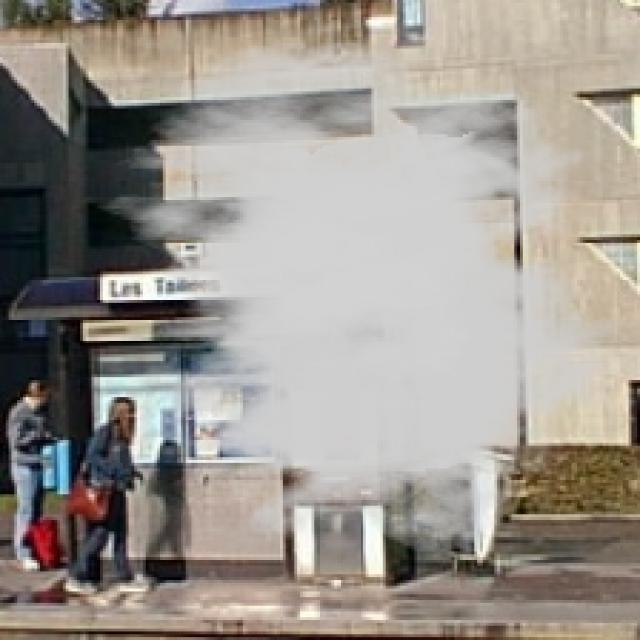smoke: (71, 40, 632, 554)
